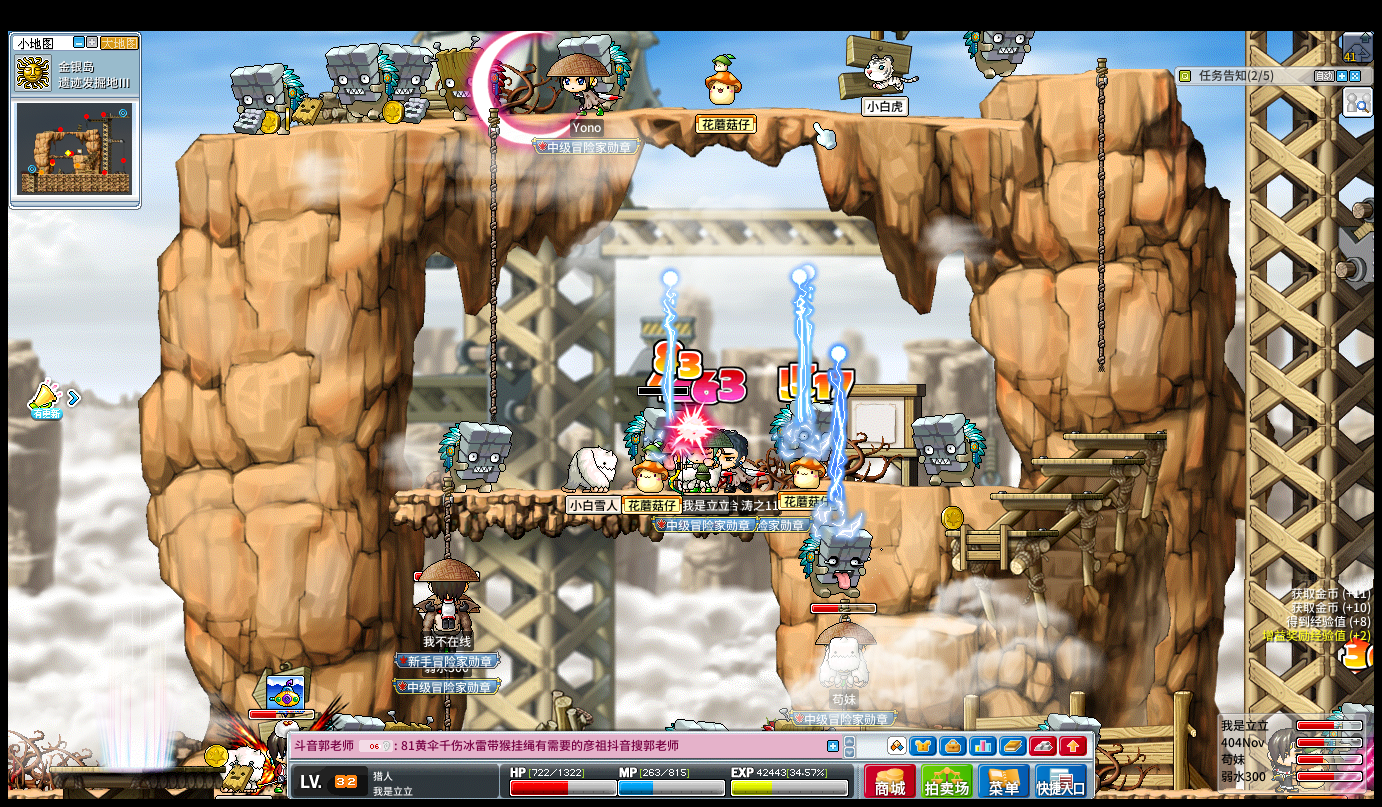floor: (198, 106, 1033, 140), (395, 488, 763, 500), (1002, 65, 1172, 81), (864, 614, 979, 635), (855, 481, 1027, 493), (864, 484, 1023, 496), (1062, 429, 1167, 441), (941, 528, 1055, 537), (1027, 456, 1145, 464), (991, 492, 1102, 500)
monster: (325, 42, 398, 124), (227, 61, 304, 136), (912, 412, 985, 488), (799, 525, 872, 601), (438, 420, 511, 492), (768, 400, 837, 462), (395, 44, 432, 125), (623, 408, 672, 461)
rope: (1096, 51, 1108, 277), (487, 113, 498, 269), (488, 283, 498, 423), (1094, 260, 1105, 371), (440, 483, 454, 560)
